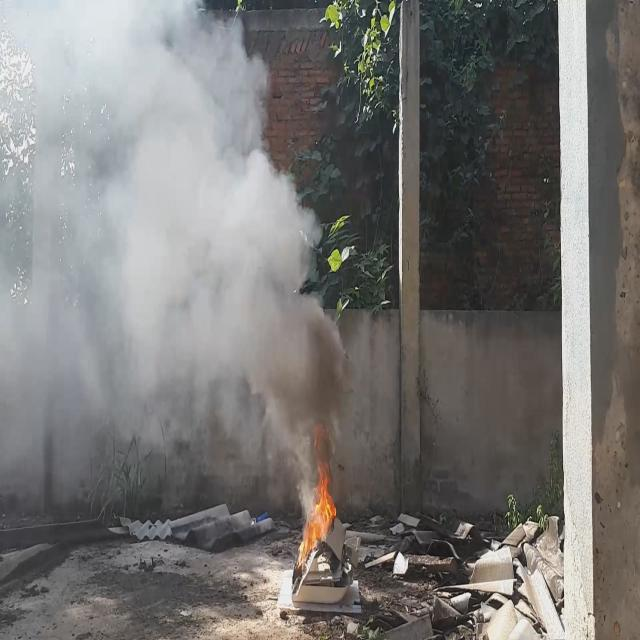Fire: (299, 420, 338, 569)
Smoke: (0, 0, 350, 511)
